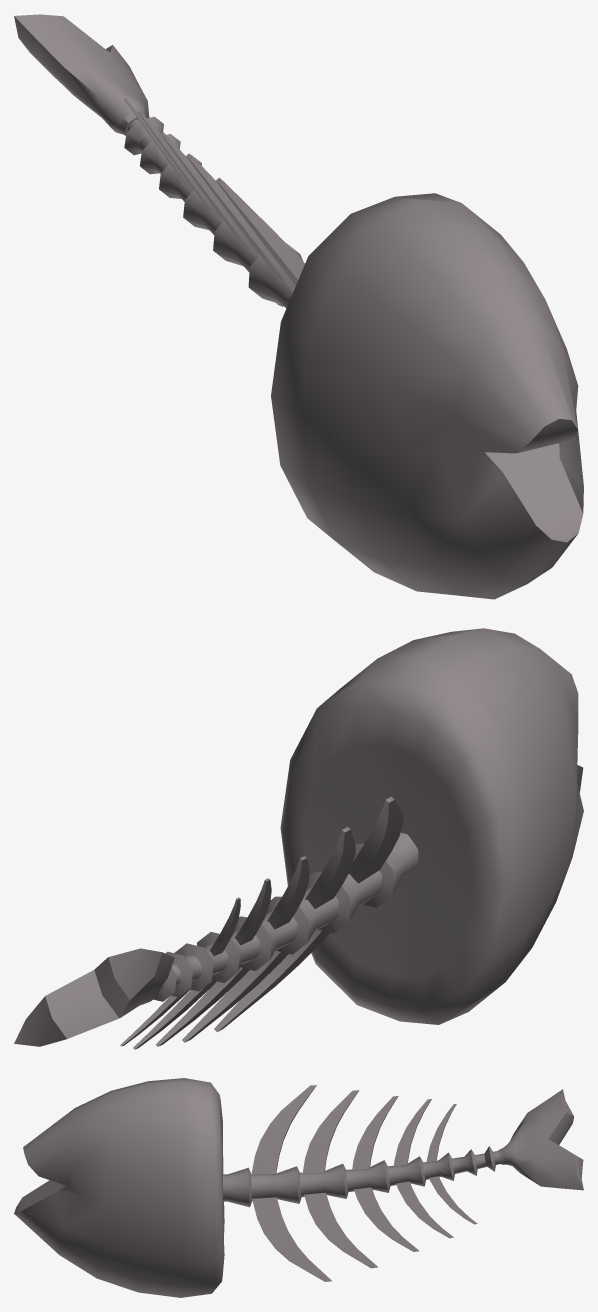
The model's file is Pez_04.fbx.
3 views of the same model, one above another, from view 1: azimuth 30°, elevation 25°; view 2: azimuth 150°, elevation 25°; view 3: azimuth 270°, elevation 25° (orthographic). The views are drawn at different scales.
Parts seen in each view (by area): view 1: Pez_04; view 2: Pez_04; view 3: Pez_04.
Boxes of the visible parts, left/top/right/bottom form: Pez_04: left=14, top=14, right=583, bottom=599; Pez_04: left=14, top=628, right=583, bottom=1049; Pez_04: left=14, top=1078, right=583, bottom=1297.
Size of the model in its own units: 29.6 by 44.42 by 109.
